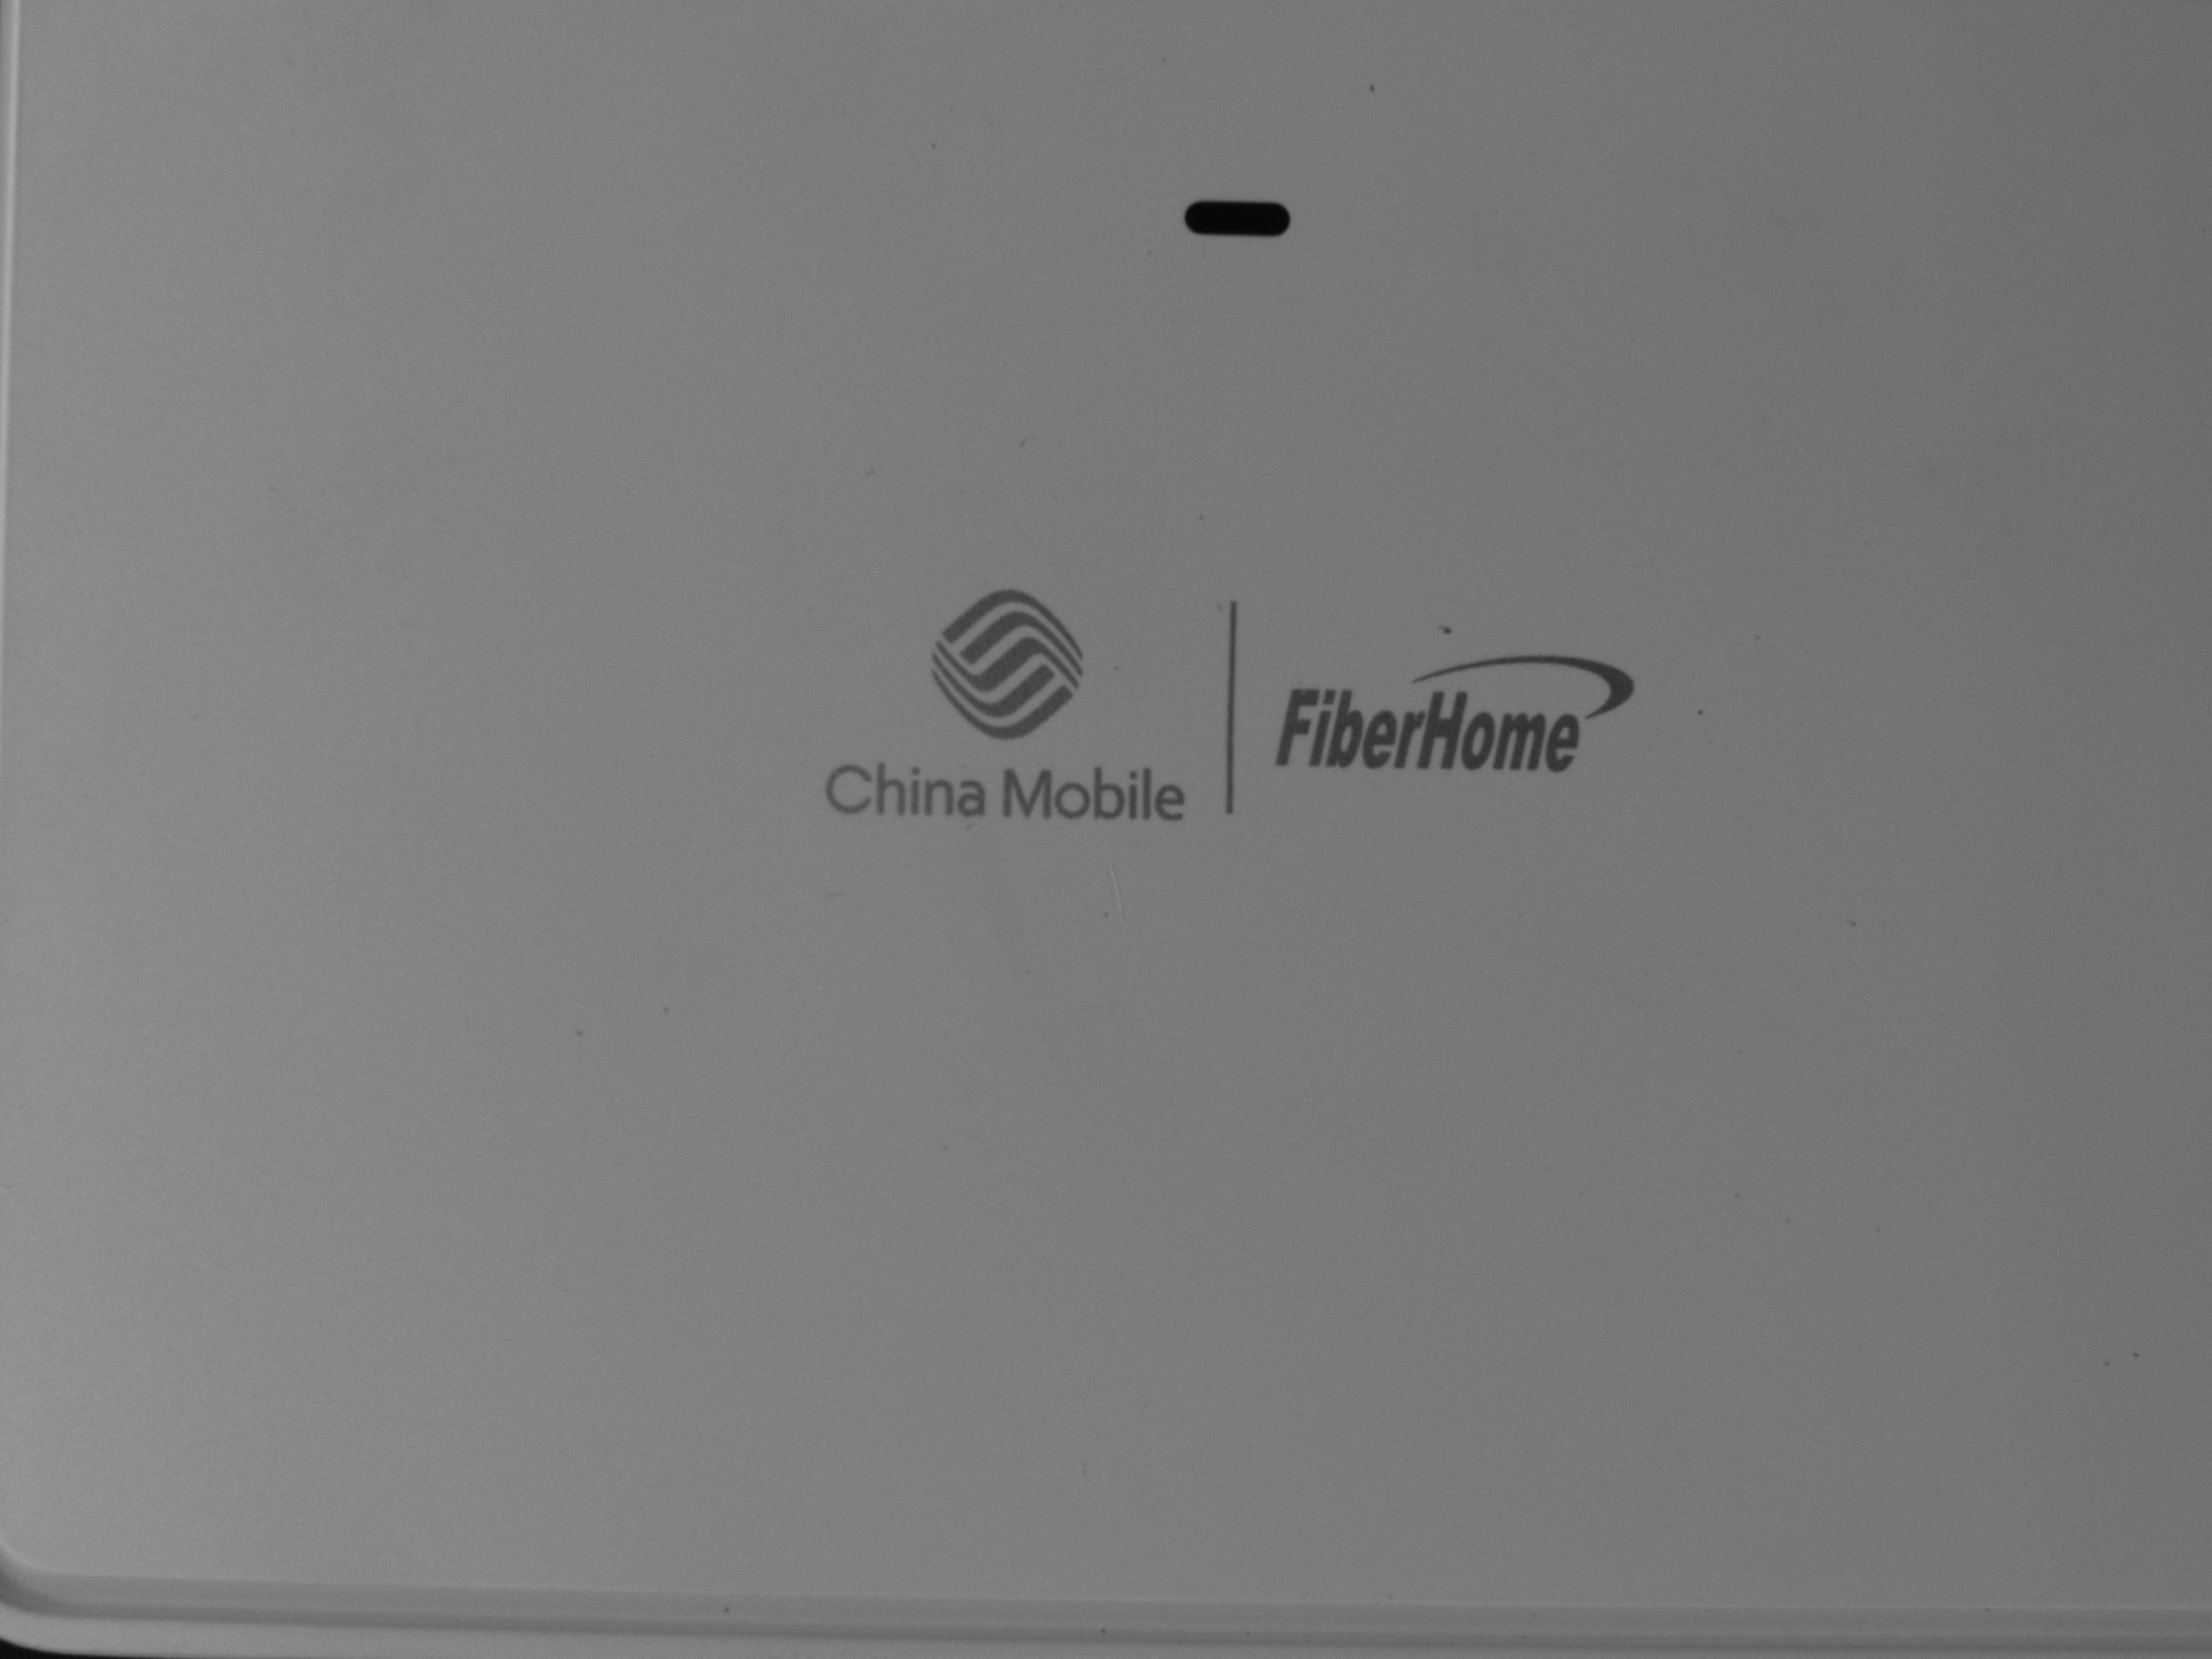BX_HG6371FMobileFiberhome: (794, 558, 1651, 842)
